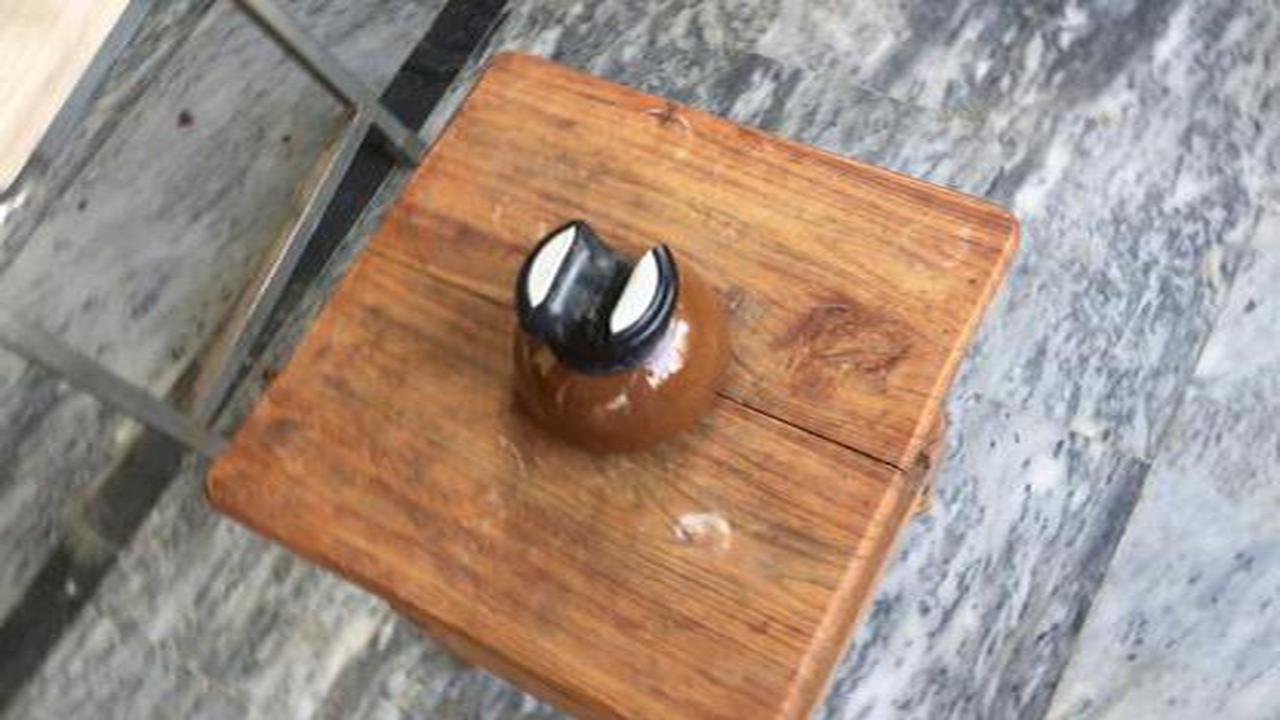insulator_pin: (493, 206, 742, 470)
